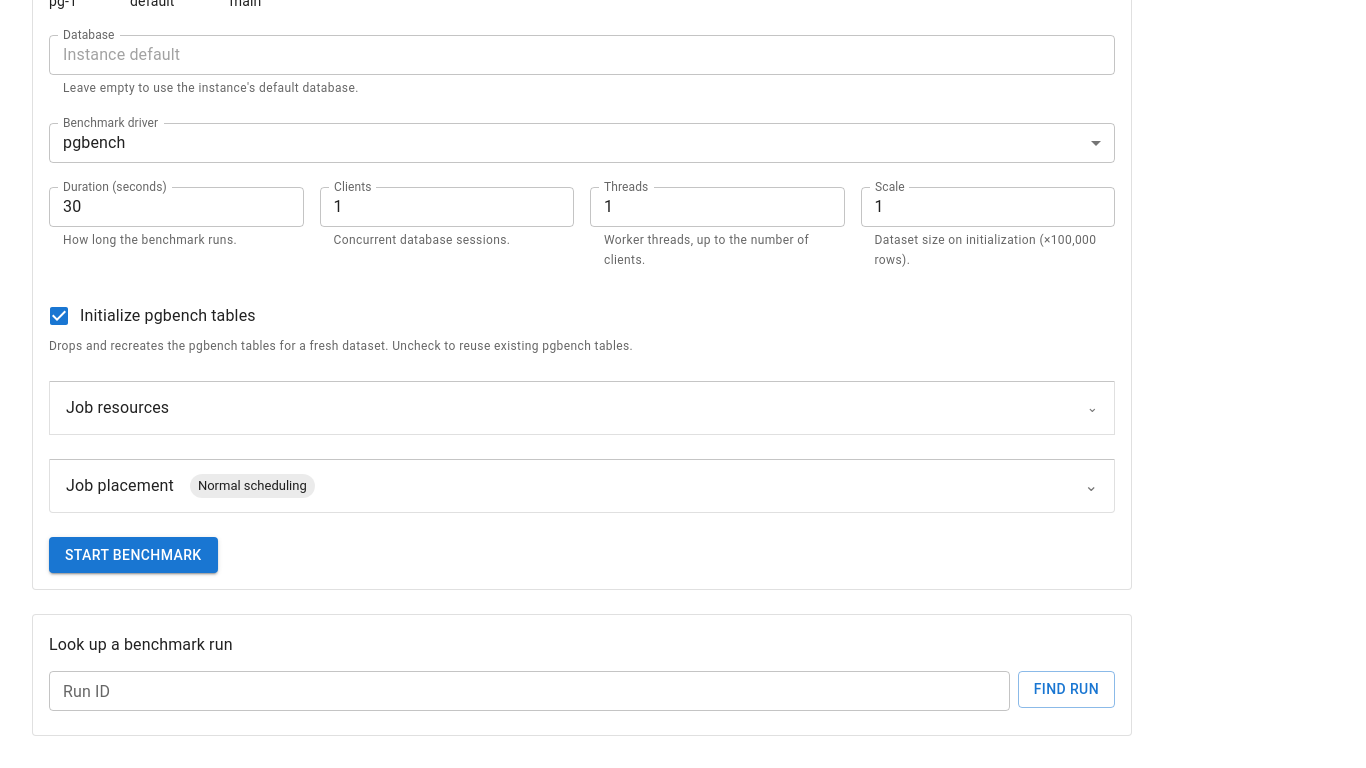
Test case: benchmark driver workflow › pgbench retains independent polling, metrics, and logs for concurrent runs
The image size is (1366, 768).
(page scrolled)
Click the button "Start benchmark" at (133, 555), box [49,537,218,573]
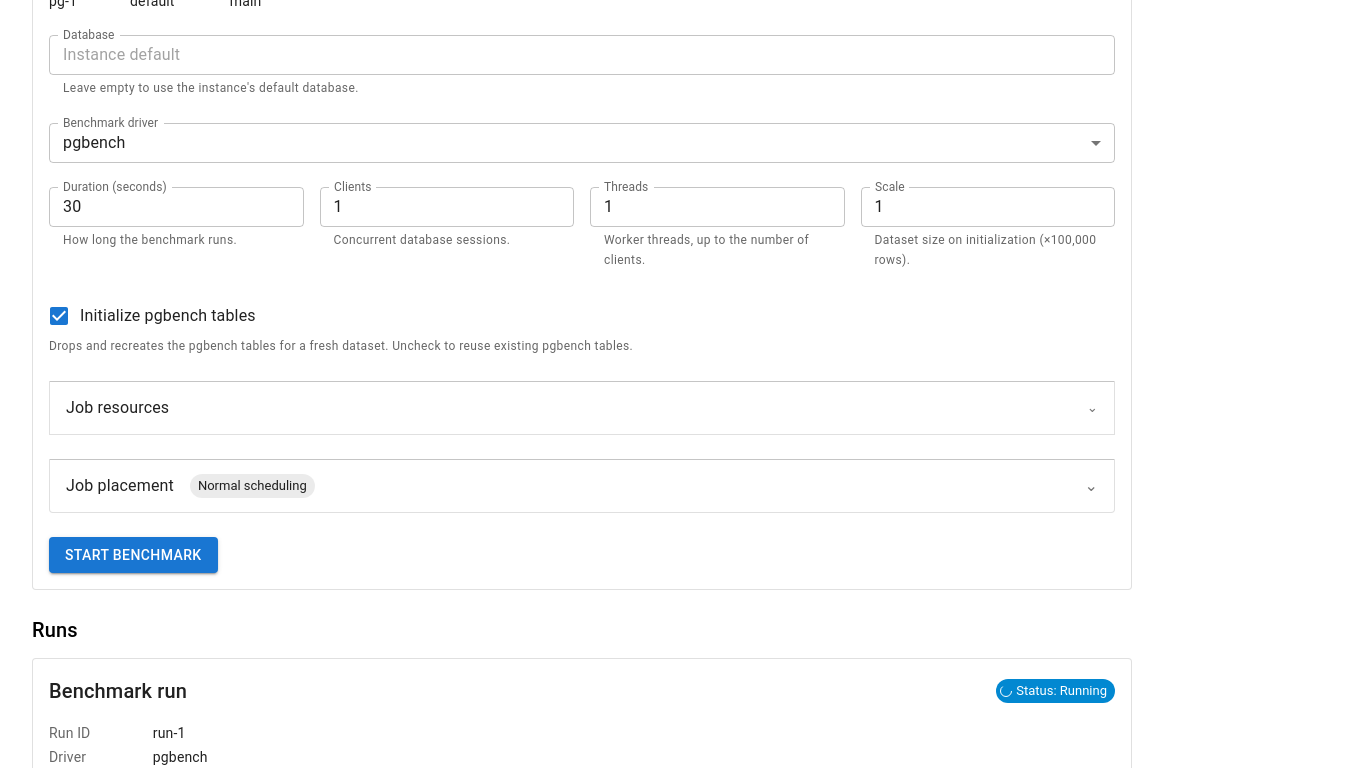
Click the button "Start benchmark" at (133, 555), box [49,537,218,573]
Wait 2000 ms
(page scrolled)
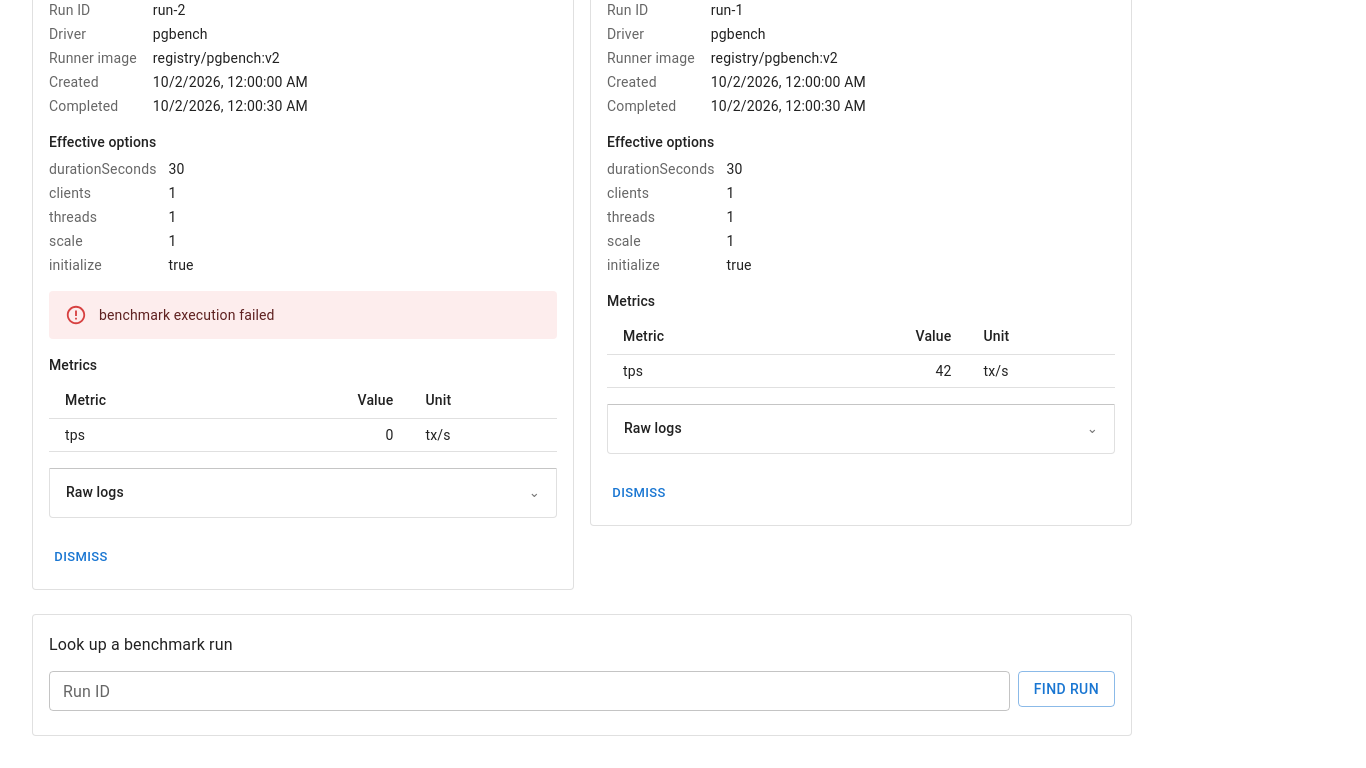
Expected: the cell "42" is shown, [794,354,968,388]
Expected: the cell "0" is shown, [236,418,410,452]
Expected: the message reads "benchmark execution failed", [99,307,275,323]
Click the button "Raw logs ⌄" below "42" at (653, 428), box [608,405,1114,453]
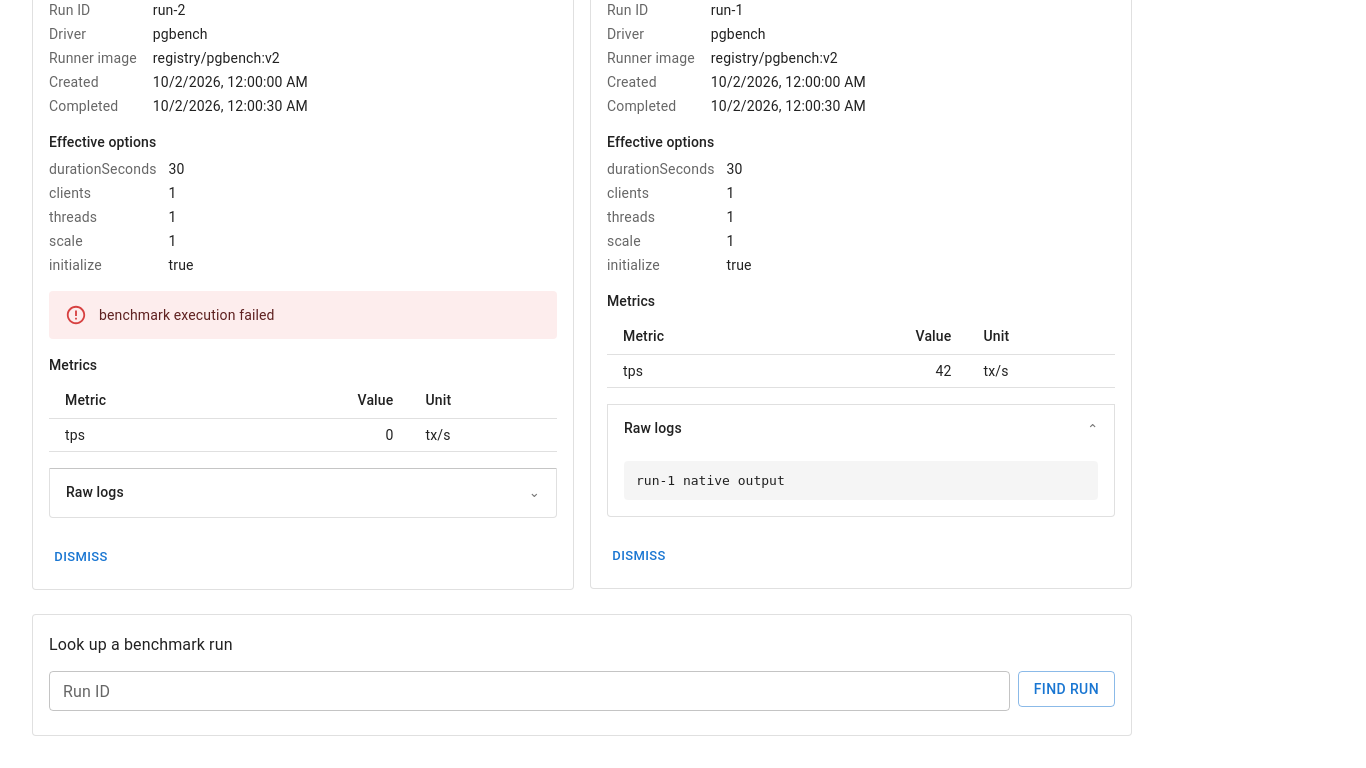
Expected: the text named "Benchmark output" reads "run-1 native output", [636,473,785,488]
Type "run-1" into the field labelled "Run ID" at (529, 691), box [49,671,1010,711]
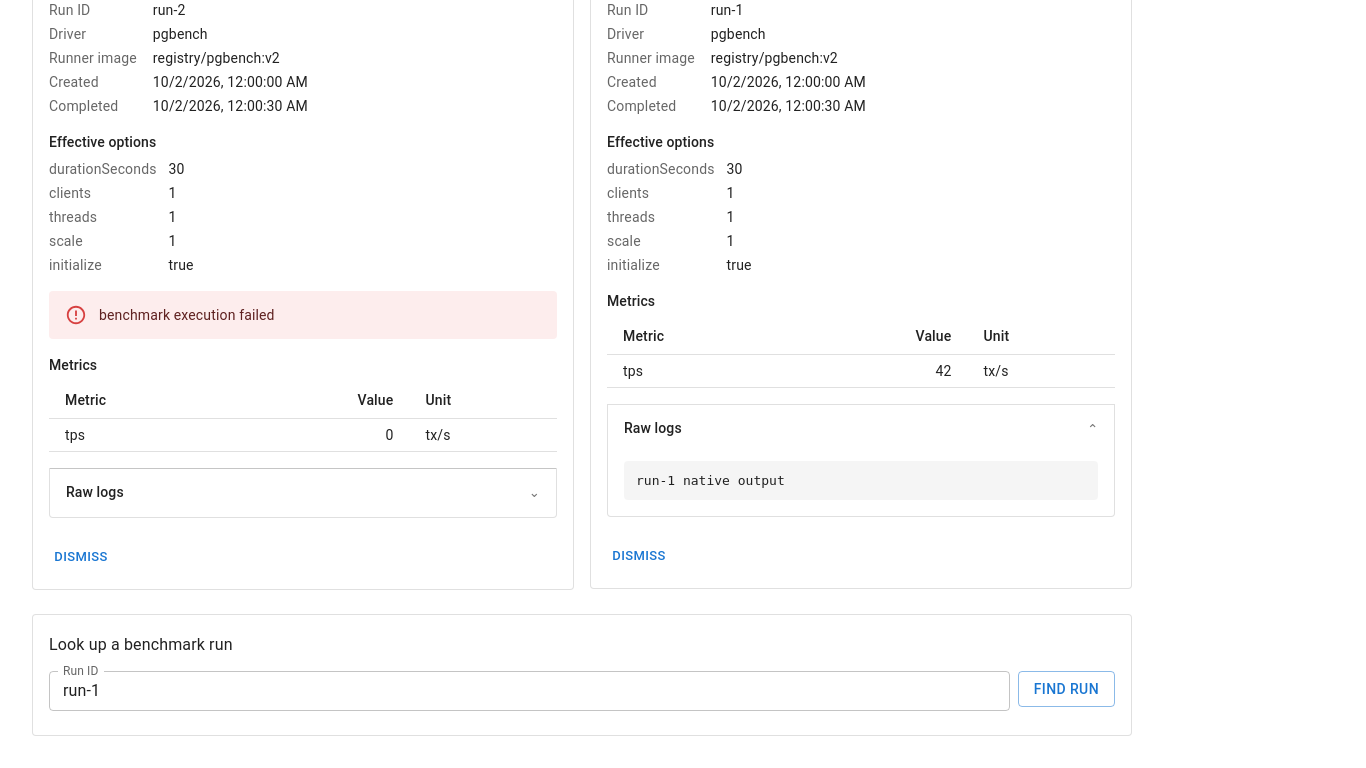
Click the button "Find run" at (1066, 689), box [1018,671,1115,707]
Wait 10000 ms
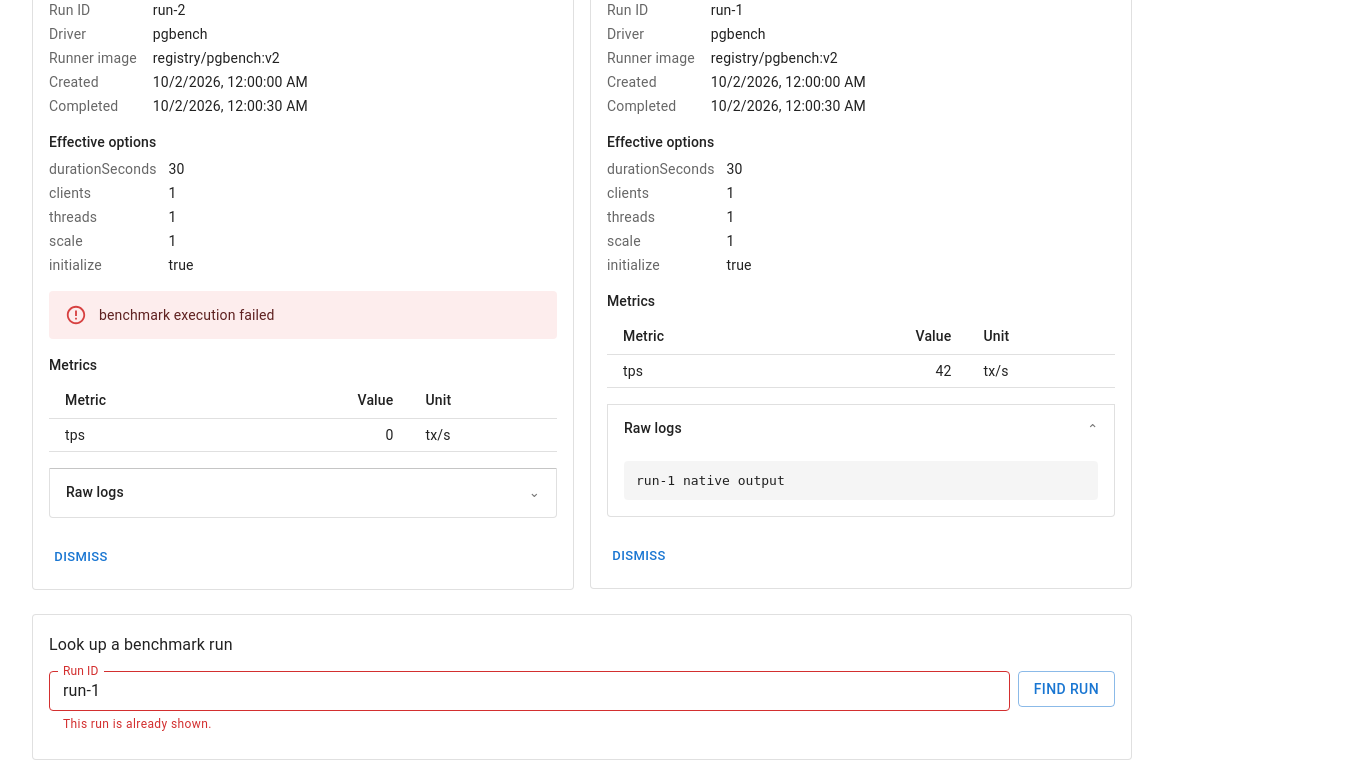
Expected: the text "This run is already shown." is shown, [63,717,212,731]
